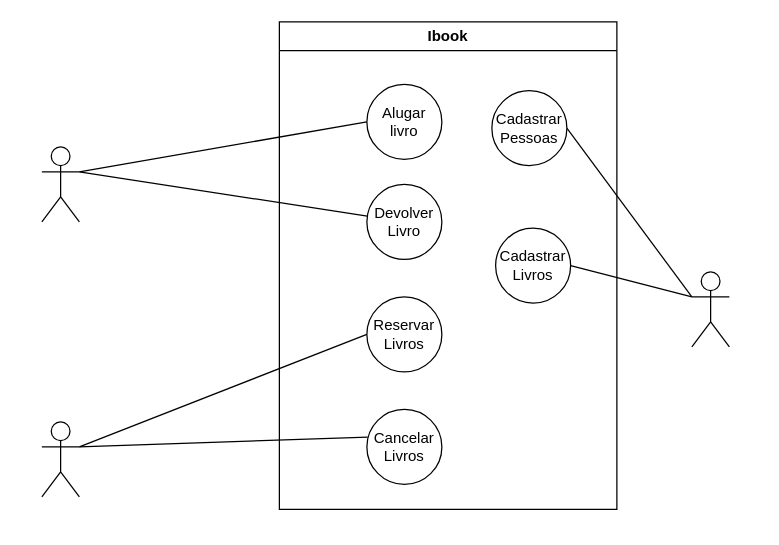
Some shapes in this 779 by 545 pixel diagram are drawn without their labels. Each missing label, with the centre of its shape:
"Administrador" belongs at (710,309).
"Aluno" belongs at (60,184).
"Funcionario" belongs at (60,459).
